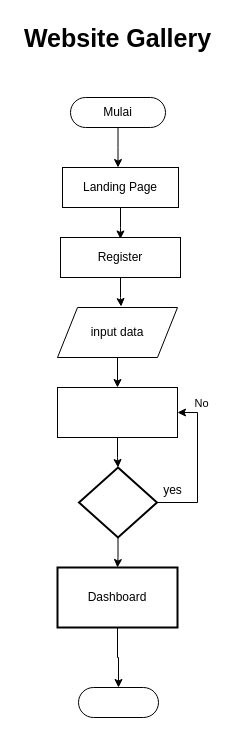
This 238x735 diagram has some shape labels left out. Here are the shapes that lost their labels. From the top down, the centre of each, then its label:
At point 117,412: "Login".
At point 118,502: "cek user".
At point 118,702: "End".
